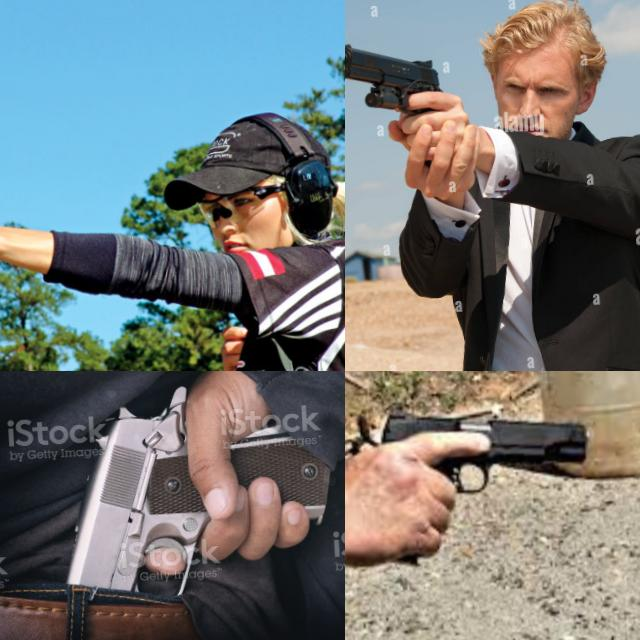handgun: (50, 375, 345, 620), (358, 395, 598, 572), (345, 31, 454, 177), (0, 115, 73, 287)
